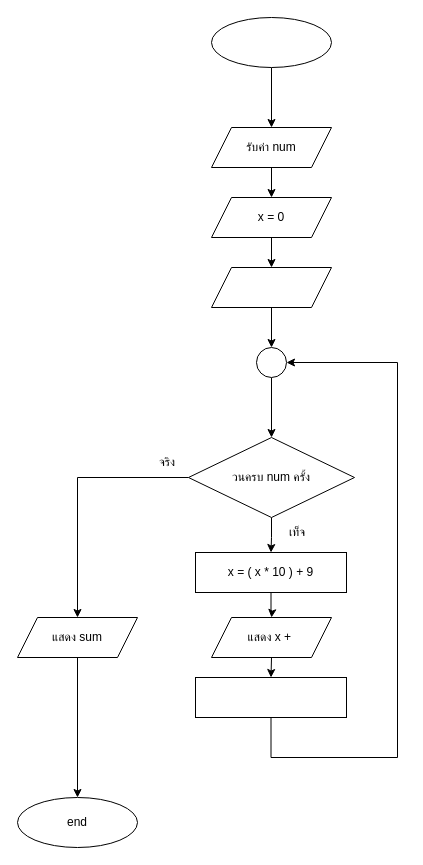
Image size: 423x865. Some labels were removed from this diagram. The box of each missing label's shape, as (x1, y1, x2, y2) in pixels:
start: (210, 16, 332, 68)
sum += x: (194, 676, 346, 718)
sum = 0: (210, 266, 332, 308)
